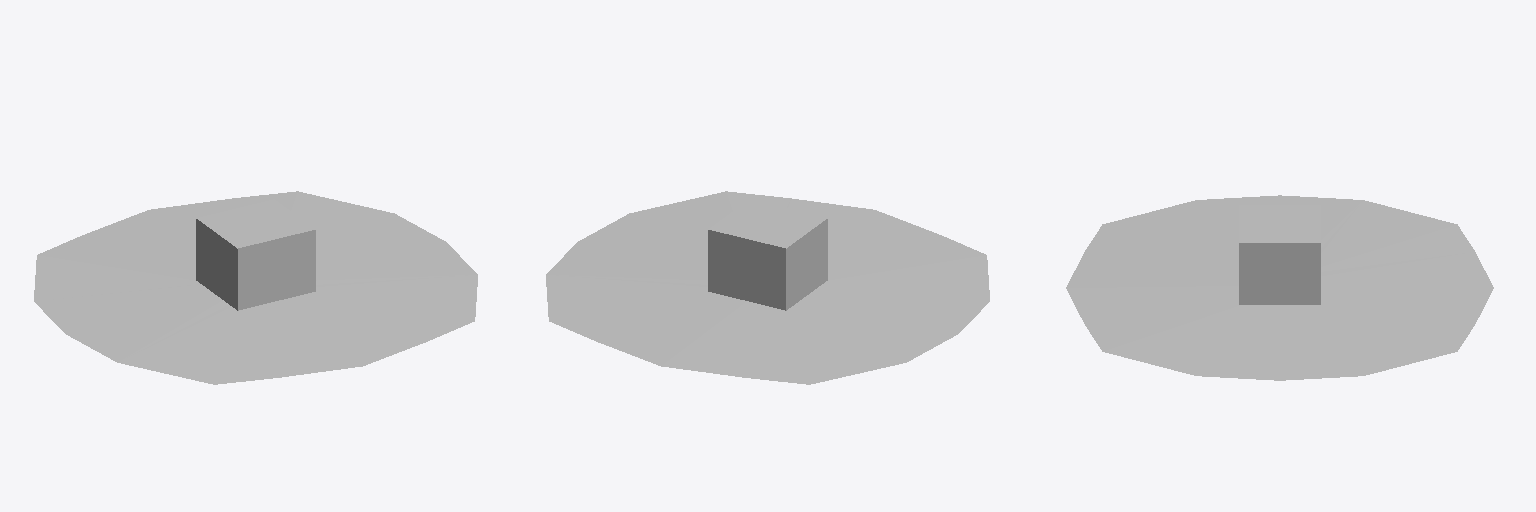
The model's file is ENVO_Stadium.obj.
3 views of the same model, side by side, from view 1: azimuth 30°, elevation 25°; view 2: azimuth 150°, elevation 25°; view 3: azimuth 270°, elevation 25° (orthographic).
Visible parts, largest first — view 1: Stadium, StadiumCollisionBox; view 2: Stadium, StadiumCollisionBox; view 3: Stadium, StadiumCollisionBox.
Boxes of the visible parts, box(x1,y1,x2,y2) form: Stadium: box(34, 191, 477, 384); StadiumCollisionBox: box(196, 199, 315, 310); Stadium: box(546, 191, 989, 384); StadiumCollisionBox: box(708, 199, 827, 310); Stadium: box(1066, 195, 1493, 380); StadiumCollisionBox: box(1239, 205, 1320, 304).
Bounding box in the file's own units: 24258 × 3918 × 23660.